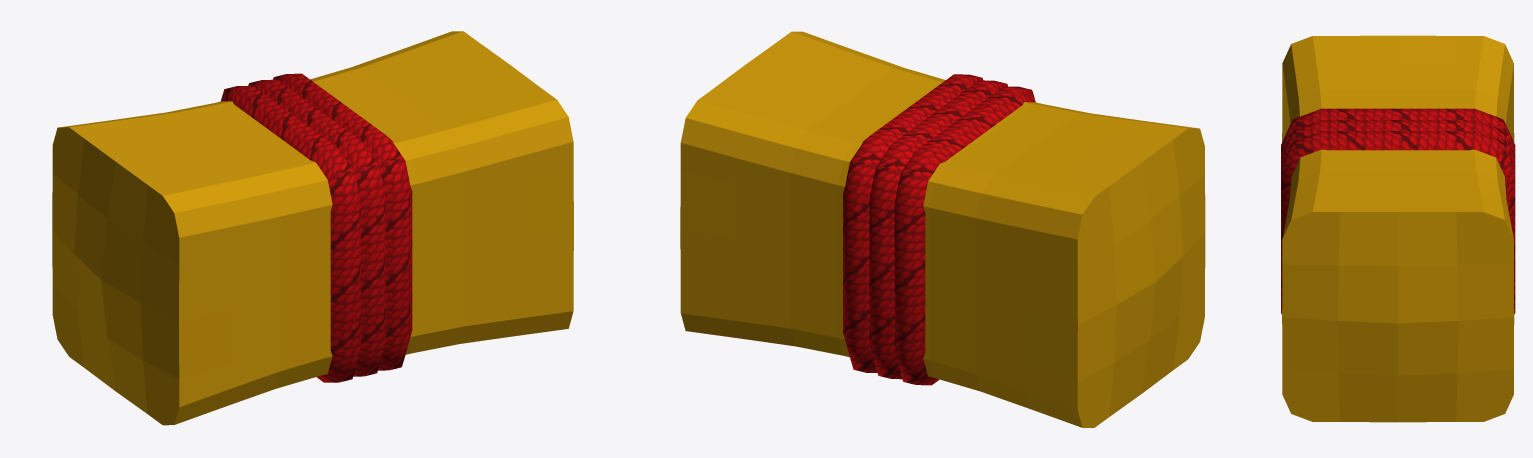
Rendered from hay_block1.1.fbx.
3 views of the same model, side by side, from view 1: azimuth 30°, elevation 25°; view 2: azimuth 150°, elevation 25°; view 3: azimuth 270°, elevation 25° (orthographic). The views are drawn at different scales.
Visible parts, largest first — view 1: Cube.001; view 2: Cube.001; view 3: Cube.001.
Boxes of the visible parts, bbox=[...] form: Cube.001: bbox=[52, 31, 573, 425]; Cube.001: bbox=[680, 31, 1205, 427]; Cube.001: bbox=[1281, 35, 1515, 422].
Bounding box in the file's own units: 152 × 74.69 × 74.47.
